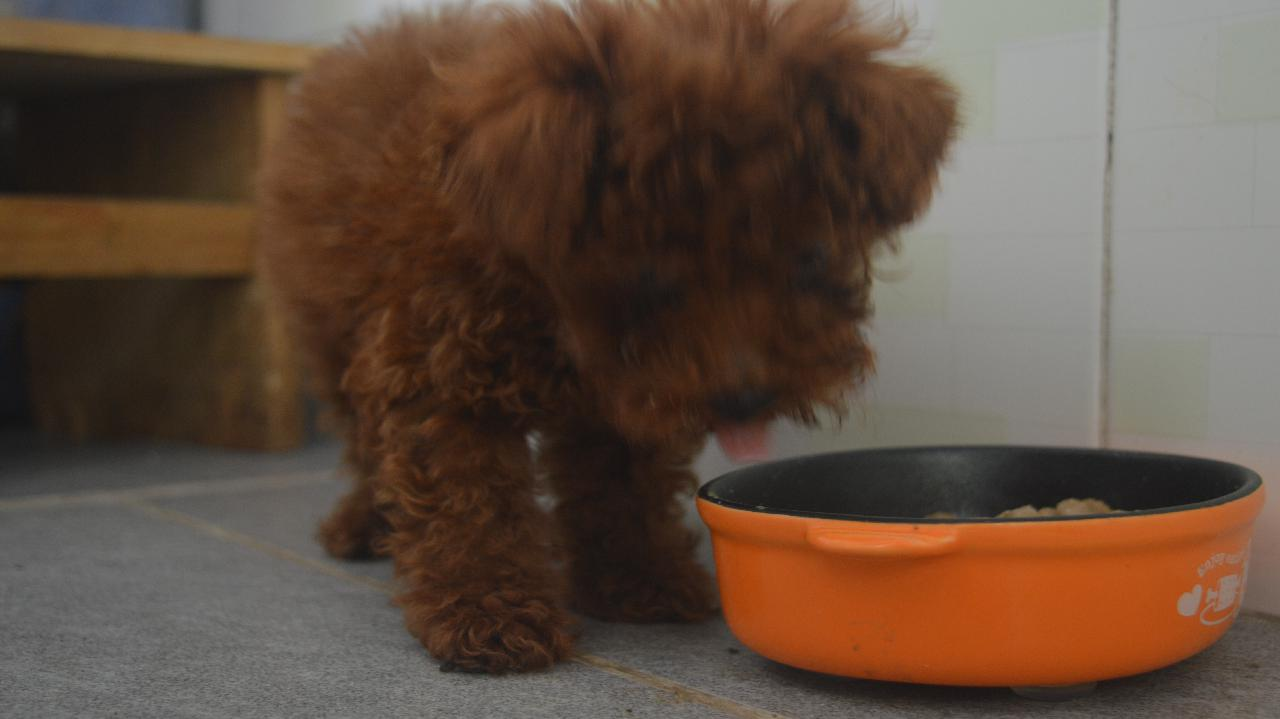coin: (264, 2, 945, 661)
